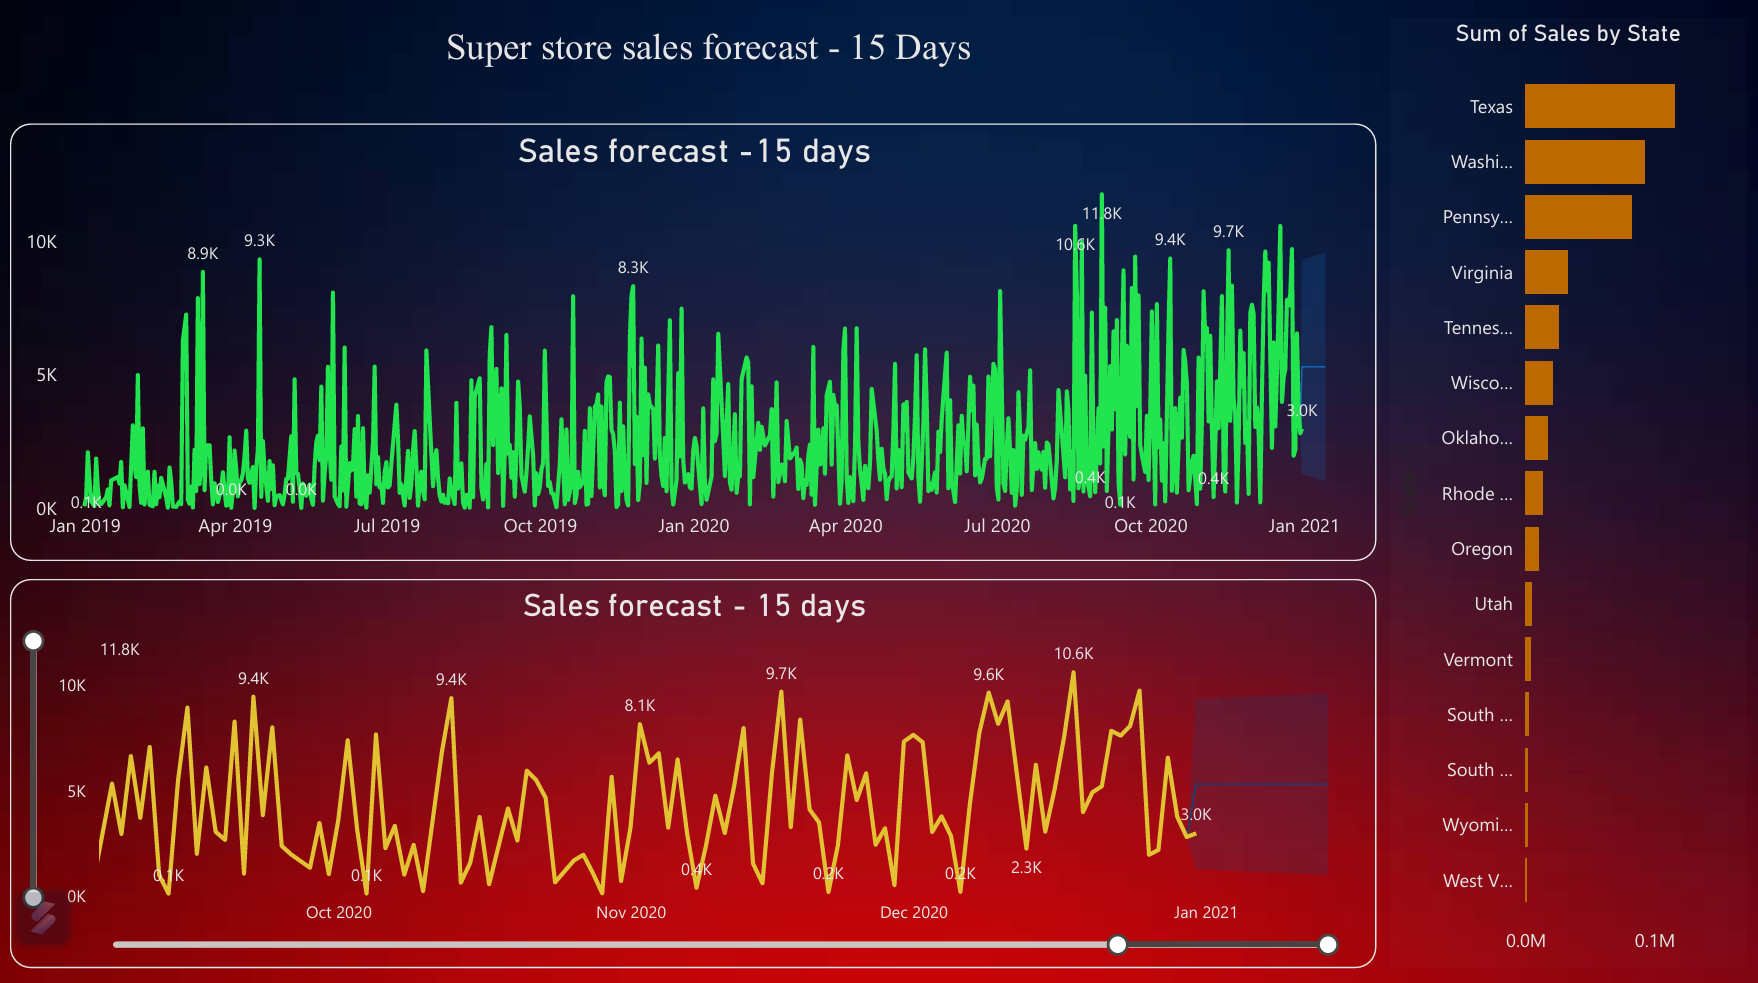

The page's visual inventory and layout, read from the dashboard file:
{"tool":"powerbi","page":{"name":"Page 2","canvas":[1280,720],"ordinal":1},"visuals":[{"type":"lineChart","title":"Sales forecast -15 days","fields":{"Y":["Sum(Sheet1.Sales)"],"Category":["Sheet1.Order Date"]},"box":[10,93.3,990,316.7],"z":0},{"type":"lineChart","title":"Sales forecast - 15 days","fields":{"Y":["Sum(Sheet1.Sales)"],"Category":["Sheet1.Order Date"]},"box":[10,423.3,990,281.7],"z":1},{"type":"barChart","fields":{"Y":["Sum(Sheet1.Sales)"],"Category":["Sheet1.State"]},"box":[1010,16.7,258.3,688.3],"z":2},{"type":"textbox","box":[10,16.7,1011.7,53.3],"z":3}]}

Visuals, with their boxes in screenshot pixels (x1, y1, x2, y2), scaled from the page's 1280x720 canvas onto the 1758x983 screenshot:
"Sales forecast -15 days" lineChart: x1=14 y1=127 x2=1373 y2=560
"Sales forecast - 15 days" lineChart: x1=14 y1=578 x2=1373 y2=963
barChart - Sum(Sheet1.Sales) x Sheet1.State: x1=1387 y1=23 x2=1742 y2=963
textbox: x1=14 y1=23 x2=1403 y2=96
